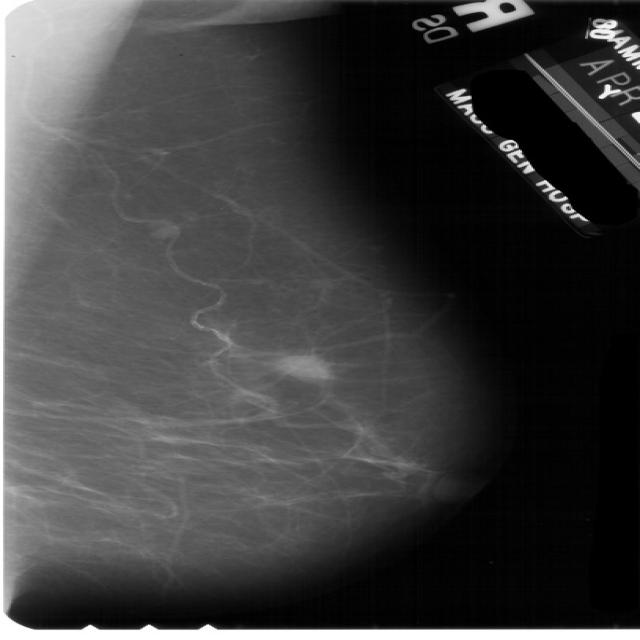tumour: (277, 354, 330, 382)
